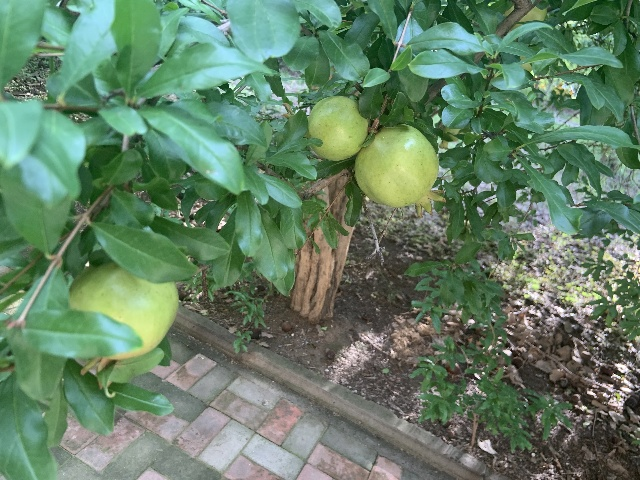mid-growth: (69, 262, 178, 376), (353, 123, 447, 217), (302, 95, 369, 160)
